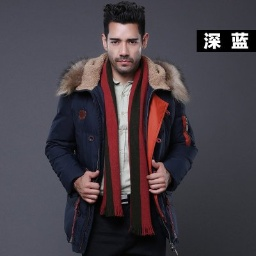face: (102, 3, 149, 72)
